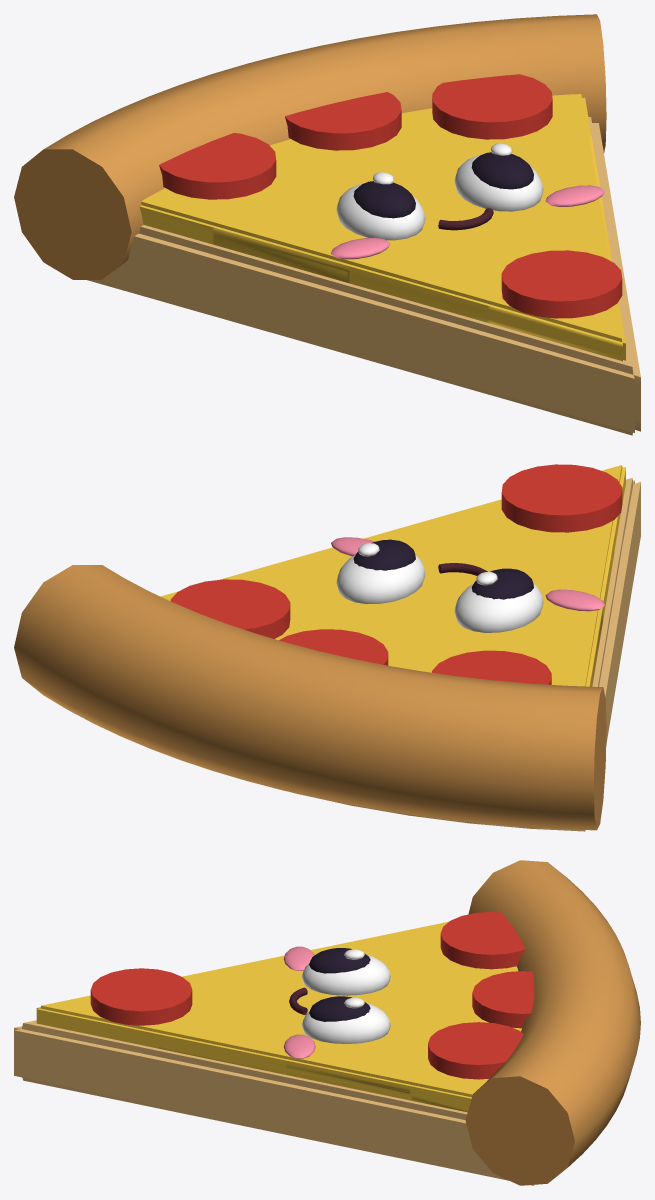
The model's file is Pizza.fbx.
3 renders of one model, top to bottom at view 1: azimuth 30°, elevation 25°; view 2: azimuth 150°, elevation 25°; view 3: azimuth 270°, elevation 25°, orthographic. The views are drawn at different scales.
Visible parts, largest first — view 1: Crust_D99A4E, Cheese_FFD23F, Dough_F2C27A, Pepperoni_D7392E, Eyes_FFFFFF, Pupils_241B2F, Blush_FF8FAB; view 2: Crust_D99A4E, Cheese_FFD23F, Pepperoni_D7392E, Eyes_FFFFFF, Dough_F2C27A, Pupils_241B2F, Blush_FF8FAB; view 3: Crust_D99A4E, Cheese_FFD23F, Dough_F2C27A, Pepperoni_D7392E, Eyes_FFFFFF, Pupils_241B2F, Blush_FF8FAB.
Boxes of the visible parts, bbox=[...] form: Crust_D99A4E: bbox=[14, 14, 606, 279]; Cheese_FFD23F: bbox=[139, 94, 625, 361]; Dough_F2C27A: bbox=[87, 117, 640, 435]; Pepperoni_D7392E: bbox=[159, 74, 622, 318]; Eyes_FFFFFF: bbox=[336, 154, 543, 240]; Pupils_241B2F: bbox=[353, 152, 533, 218]; Blush_FF8FAB: bbox=[331, 185, 604, 259]; Crust_D99A4E: bbox=[14, 565, 606, 830]; Cheese_FFD23F: bbox=[161, 465, 625, 686]; Pepperoni_D7392E: bbox=[170, 464, 622, 684]; Eyes_FFFFFF: bbox=[336, 555, 543, 632]; Dough_F2C27A: bbox=[297, 478, 640, 831]; Pupils_241B2F: bbox=[353, 539, 533, 599]; Blush_FF8FAB: bbox=[331, 537, 604, 611]; Crust_D99A4E: bbox=[465, 860, 640, 1185]; Cheese_FFD23F: bbox=[36, 921, 521, 1112]; Dough_F2C27A: bbox=[14, 1020, 534, 1185]; Pepperoni_D7392E: bbox=[90, 912, 534, 1079]; Eyes_FFFFFF: bbox=[302, 954, 390, 1043]; Pupils_241B2F: bbox=[309, 948, 370, 1021]; Blush_FF8FAB: bbox=[283, 946, 315, 1058].
Size of the model in its own units: 1.77 by 0.39 by 1.97.
